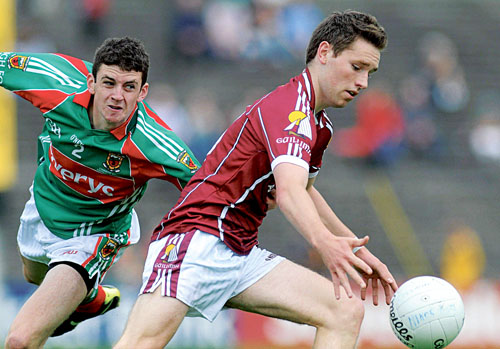ball: (385, 271, 468, 346)
player: (193, 7, 371, 343), (24, 29, 156, 326)
